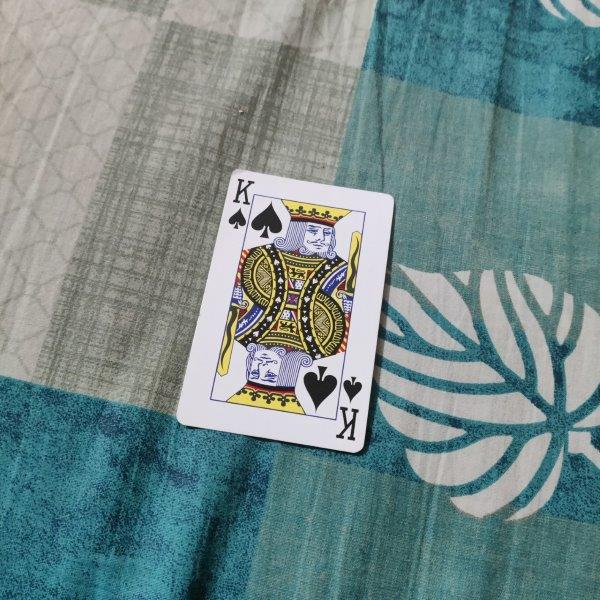King of Spades: (175, 169, 396, 455)
